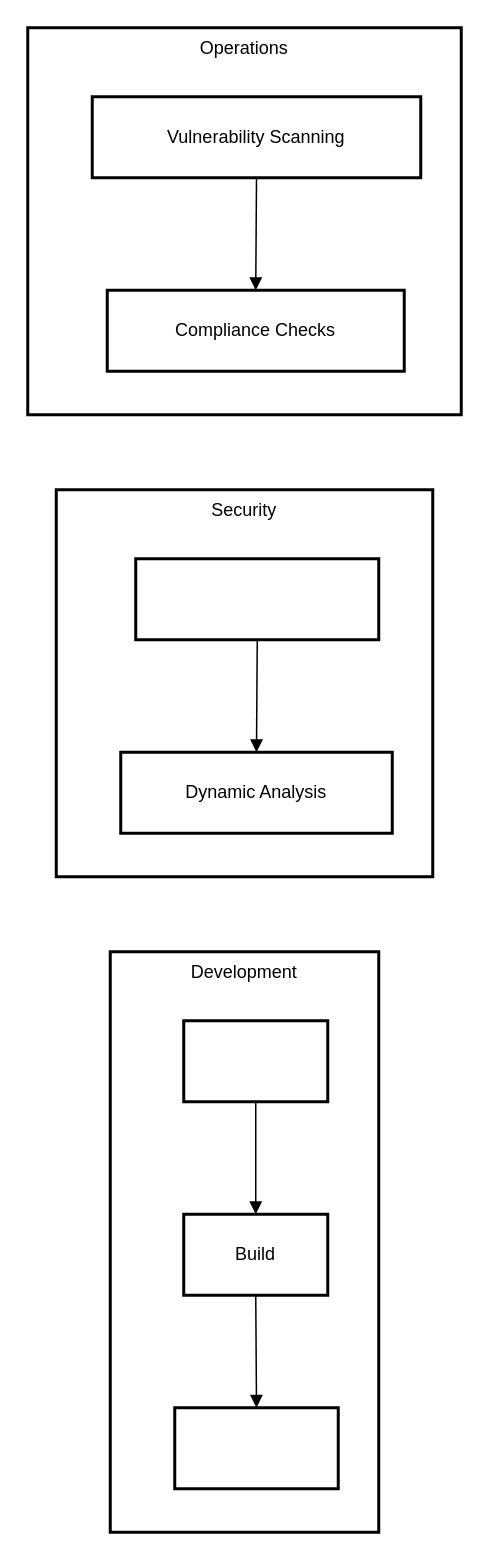
Some shapes in this 488 by 1559 pixel diagram are drawn without their labels. Here are the shapes that lost their labels. From the top down, the centre of each, then its label:
the point at 257,598: Static Analysis
the point at 255,1060: Code
the point at 255,1448: Deploy
